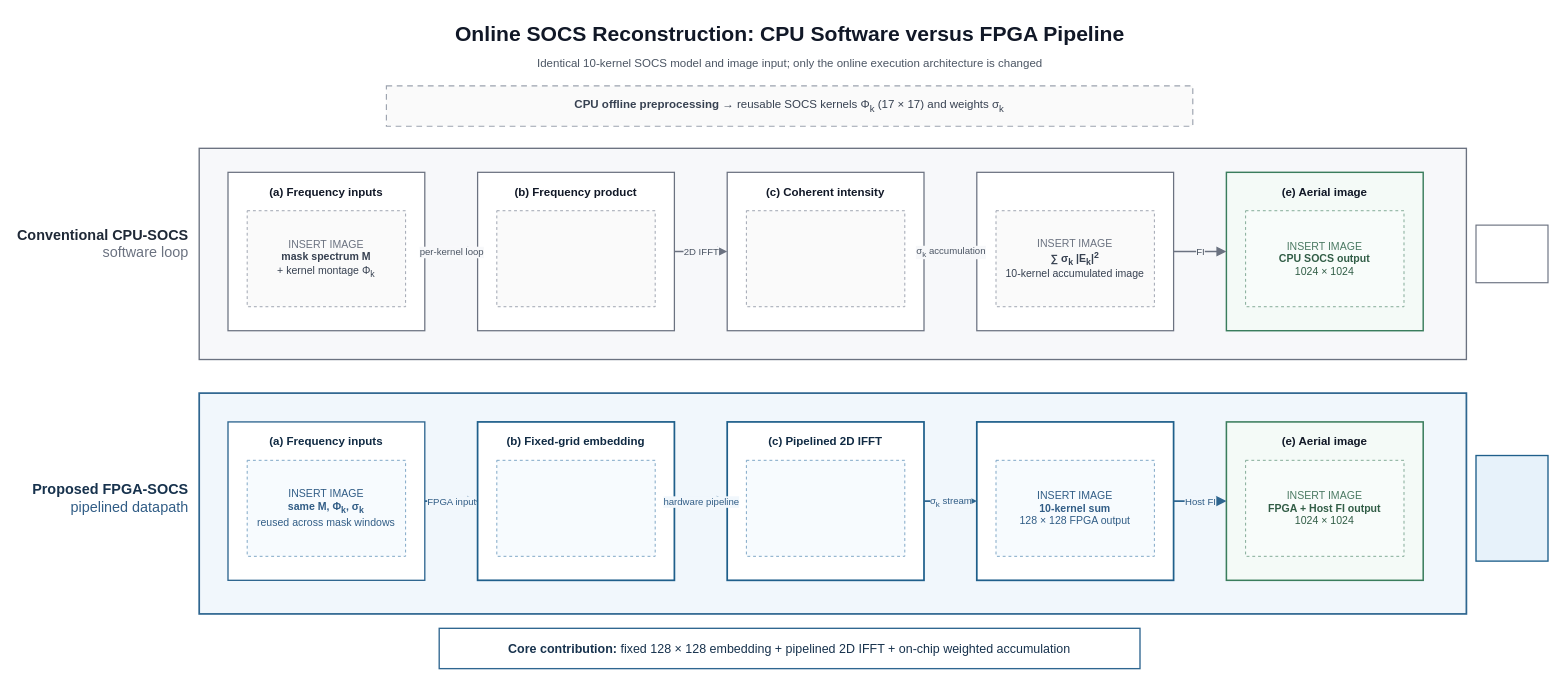
The diagram is 1565 pixels wide and 685 high, and some of its shapes have lost their labels. Here are the shapes that lost their labels. From the top down, the box of each, then its label:
(496, 210, 655, 307): INSERT IMAGE M × Φ k 17 × 17 complex product
(745, 210, 905, 307): INSERT IMAGE |IFFT(MΦ k )| 2 single-kernel intensity
(976, 171, 1174, 331): (d) Weighted sum
(1475, 224, 1548, 283): 35.6 ms 10 kernels
(496, 459, 655, 556): INSERT IMAGE 17 × 17 product embedded in 128 × 128 grid
(745, 459, 905, 556): INSERT IMAGE |E k | 2 row IFFT → transpose → column IFFT
(975, 421, 1174, 581): (d) BRAM accumulation
(1475, 454, 1548, 561): 10.57 ms 10 kernels kernel only 3.37×
